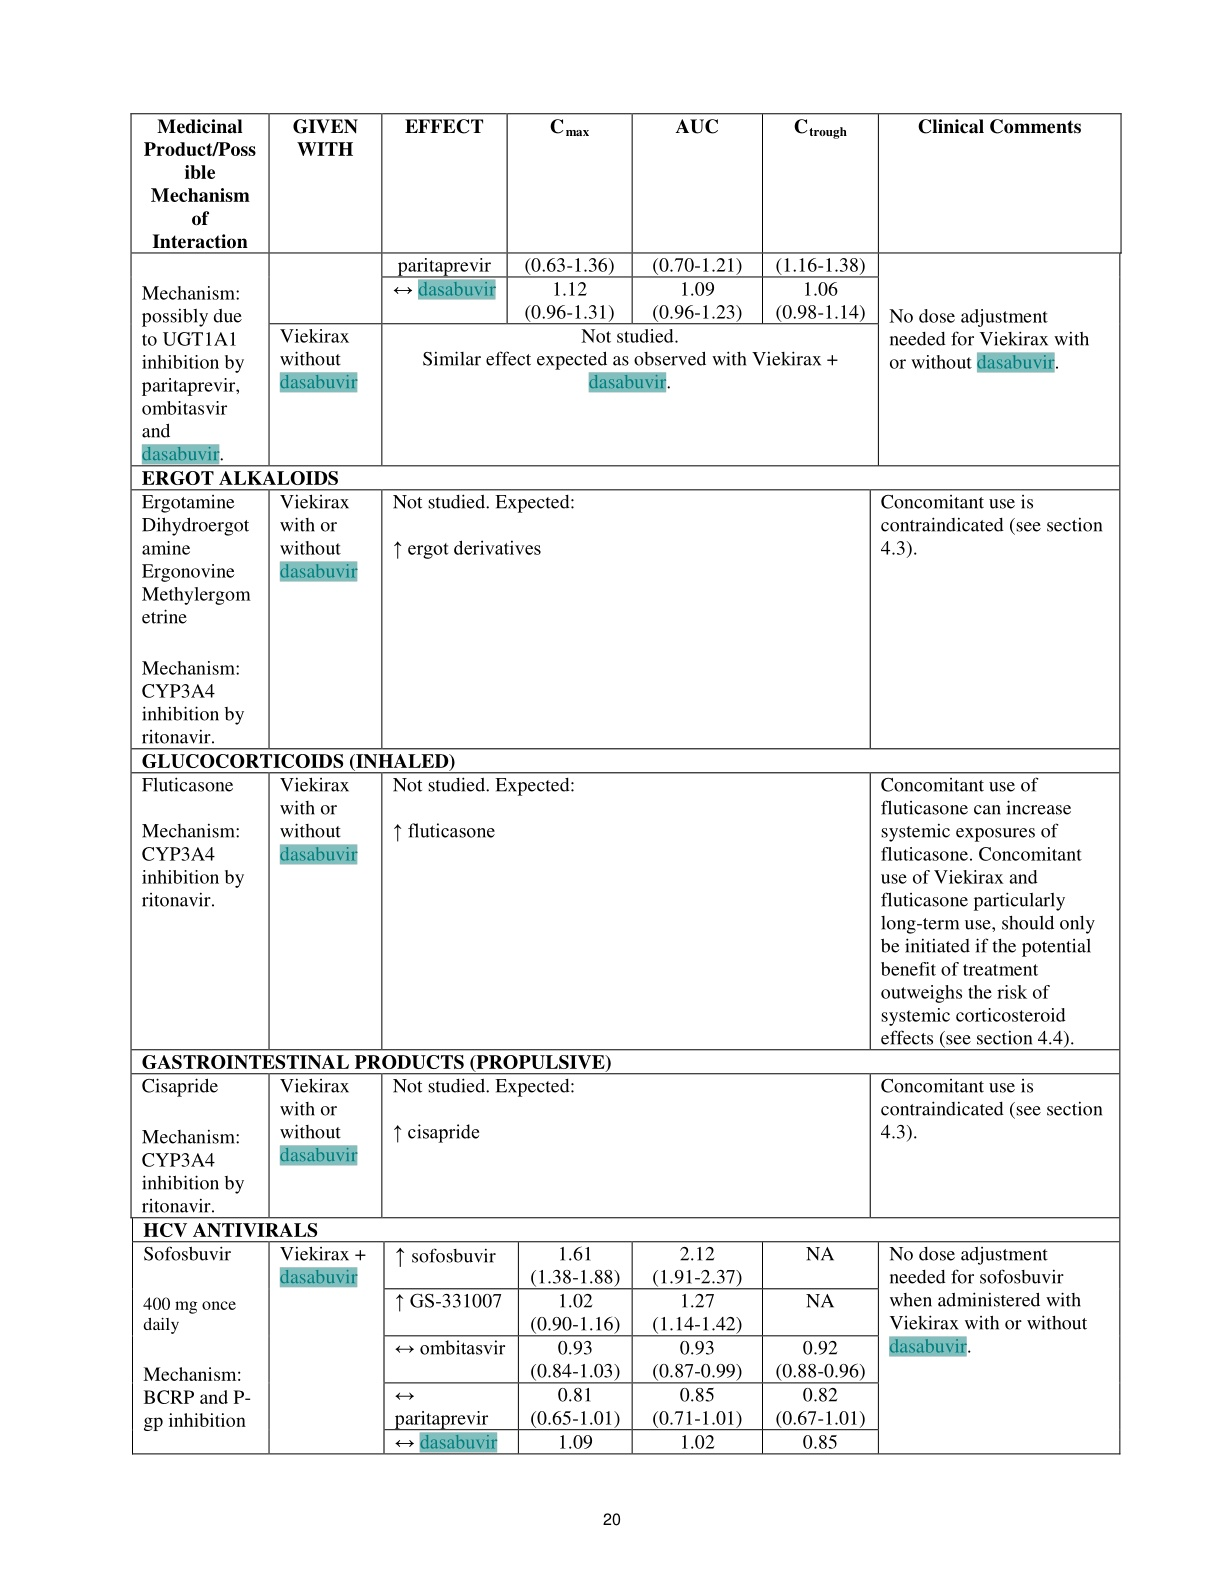merged_cells: (129, 112, 1121, 1455)
